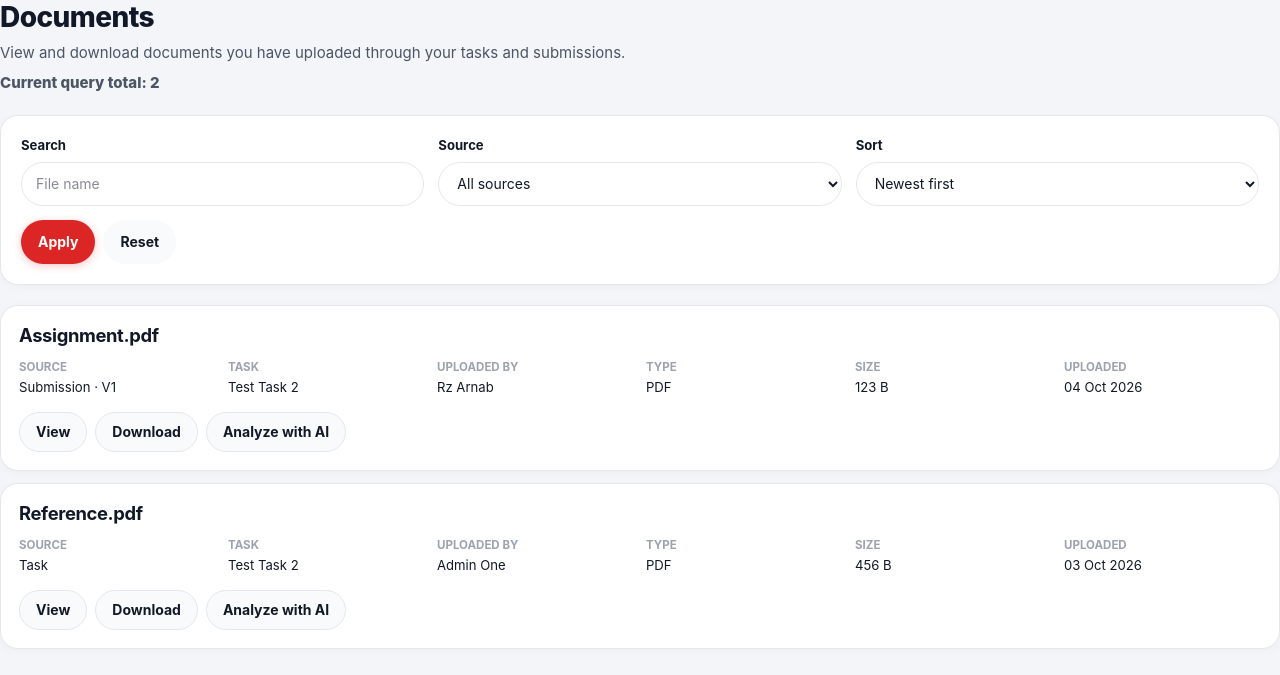
DocumentsPage › aborts and ignores a stale result when analysis switches documents
This screenshot has width=1280, height=675.
Click the button with aria-label "Analyze Assignment.pdf with AI": x=276, y=432 [206,412,346,452]
(page scrolled)
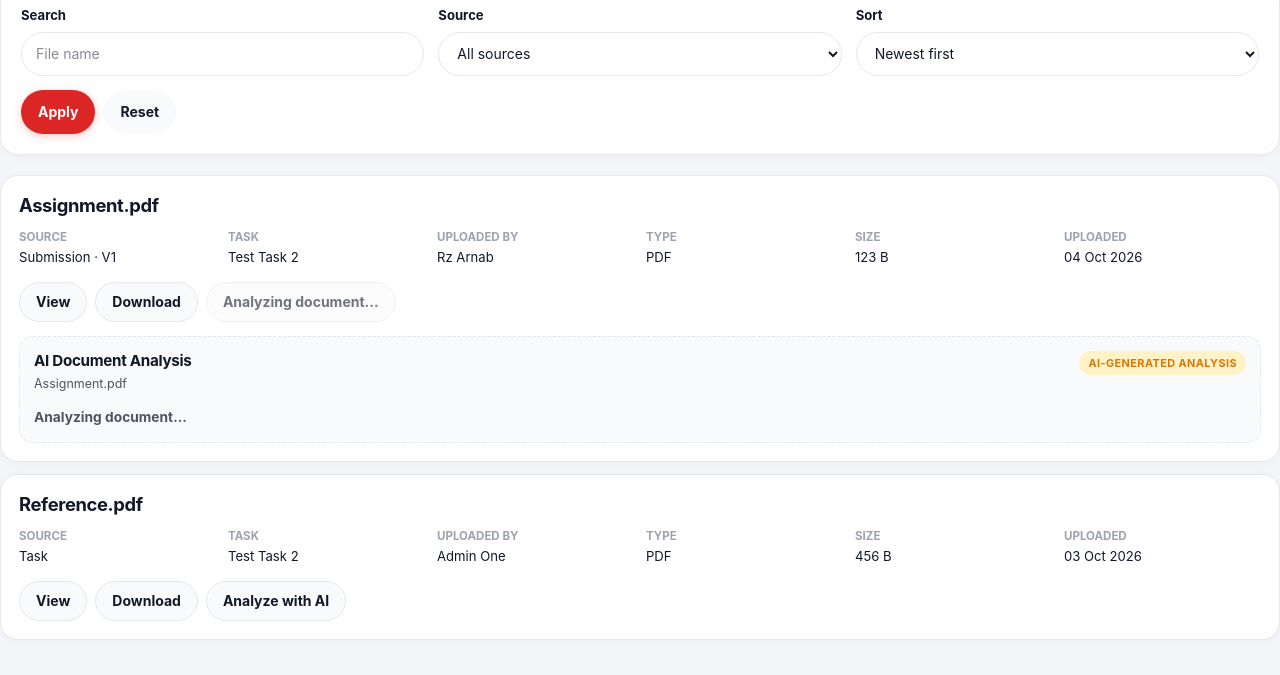
Click the button with aria-label "Analyze Reference.pdf with AI": x=276, y=601 [206,581,346,621]
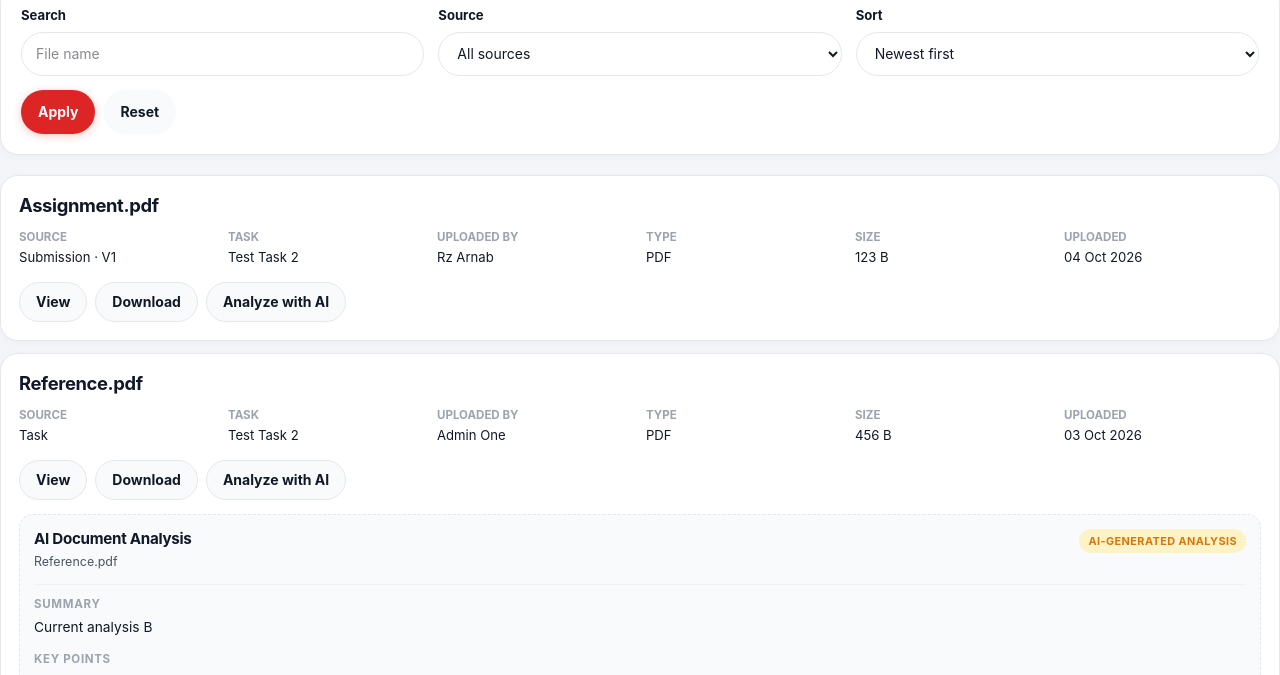
Expected: the text "Current analysis B" is shown, [34,619,152,635]
